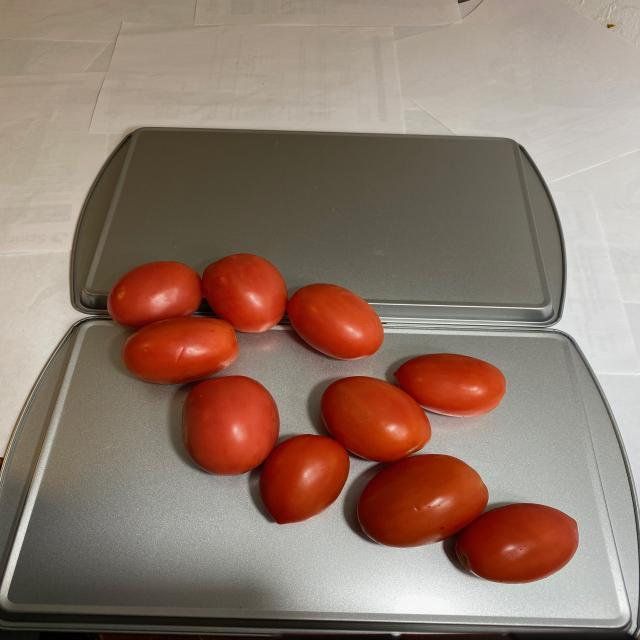tomato: (102, 248, 586, 584)
